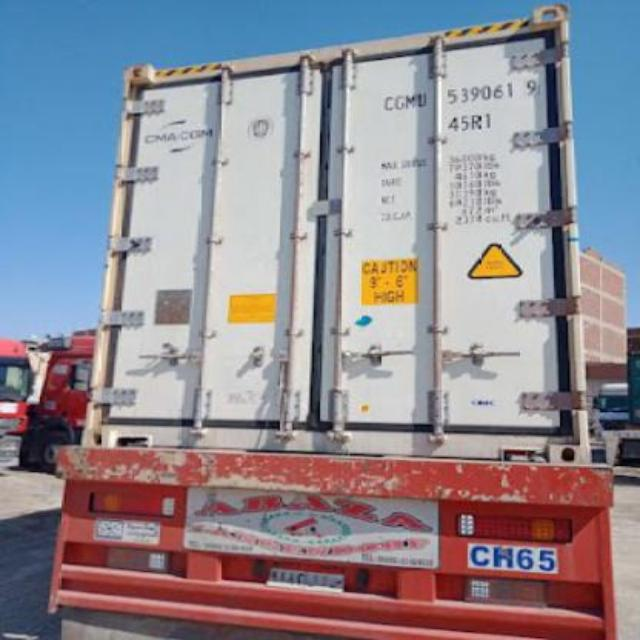0: (480, 84, 492, 100)
1: (504, 81, 516, 97)
3: (458, 87, 470, 103)
5: (446, 87, 458, 103)
6: (492, 83, 506, 99)
9: (524, 80, 540, 96), (470, 86, 480, 100)
C: (382, 94, 396, 112)
G: (392, 93, 406, 111)
M: (404, 94, 418, 110)
U: (416, 90, 428, 108)
